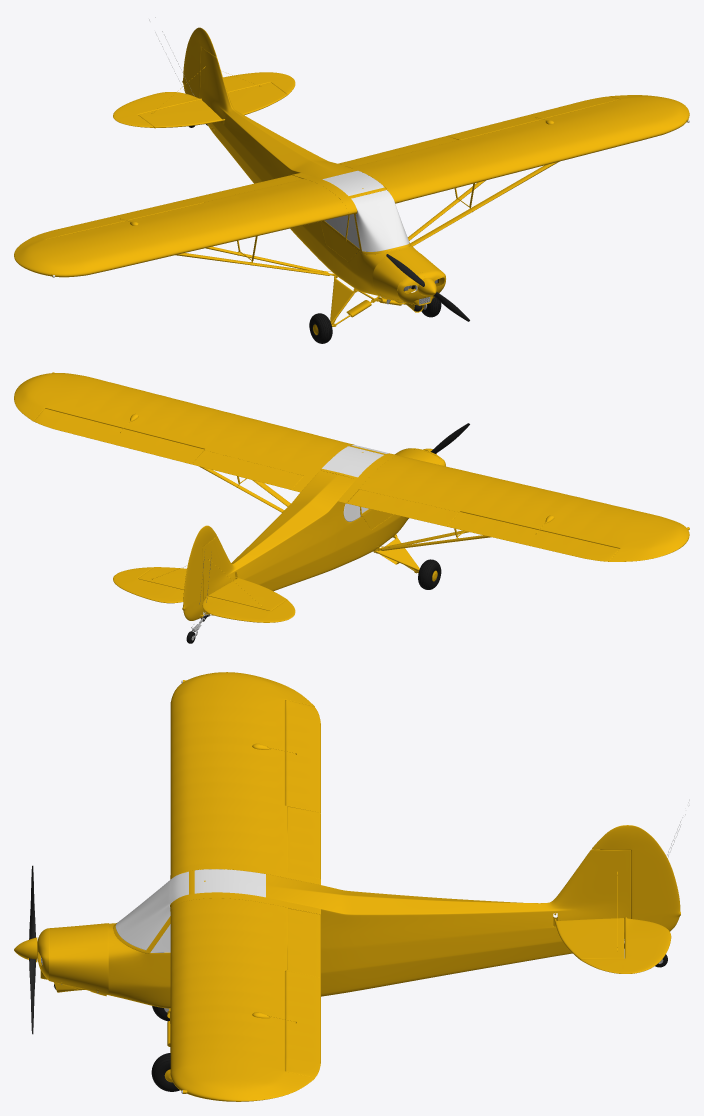
3 renders of one model, top to bottom at view 1: azimuth 30°, elevation 25°; view 2: azimuth 150°, elevation 25°; view 3: azimuth 270°, elevation 25°, orthographic. The views are drawn at different scales.
Parts seen in each view (by area): view 1: fuselage_wings, fuselage01, windshield01, horizontal_stab01, elevator01, fuselage02, aileron_L01, aileron_R01, rudder01, wing_support_L01, fuselage_wings02, wing_support_R01 (+6 smaller); view 2: fuselage_wings, fuselage01, aileron_L01, aileron_R01, elevator01, horizontal_stab01, flap_L01, flap_R01, rudder01, fuselage_wings02, windshield01, wing_support_R01 (+4 smaller); view 3: fuselage_wings, fuselage01, rudder01, fuselage02, windshield01, aileron_R01, aileron_L01, elevator01, horizontal_stab01, flap_R01, flap_L01, fuselage_wings02 (+1 smaller).
Part boxes in pixels (x1,y1,x2,y2): fuselage_wings: (14, 95, 689, 277); fuselage01: (200, 47, 417, 296); windshield01: (322, 170, 409, 251); horizontal_stab01: (138, 82, 287, 128); elevator01: (113, 72, 295, 127); fuselage02: (372, 249, 445, 304); aileron_L01: (447, 96, 619, 139); aileron_R01: (34, 198, 203, 239); rudder01: (182, 27, 216, 98); wing_support_L01: (408, 162, 558, 246); fuselage_wings02: (292, 161, 403, 214); wing_support_R01: (175, 246, 330, 275); fuselage_wings: (14, 373, 689, 561); fuselage01: (202, 456, 408, 614); aileron_L01: (34, 408, 204, 464); aileron_R01: (447, 512, 619, 561); elevator01: (113, 567, 295, 622); horizontal_stab01: (138, 567, 286, 610); flap_L01: (191, 450, 303, 489); flap_R01: (347, 489, 458, 526); rudder01: (182, 525, 216, 620); fuselage_wings02: (292, 442, 398, 503); windshield01: (322, 445, 388, 477); wing_support_R01: (381, 530, 491, 550); fuselage_wings: (170, 672, 320, 1101); fuselage01: (106, 849, 630, 1008); rudder01: (592, 825, 680, 931); fuselage02: (37, 923, 108, 993); windshield01: (115, 869, 265, 950); aileron_R01: (285, 700, 320, 812); aileron_L01: (285, 971, 320, 1078); elevator01: (581, 917, 671, 973); horizontal_stab01: (554, 912, 624, 960); flap_R01: (288, 806, 320, 878); flap_L01: (287, 908, 320, 977); fuselage_wings02: (170, 863, 320, 914).
Size of the model in its own units: 1069 by 275 by 714.
